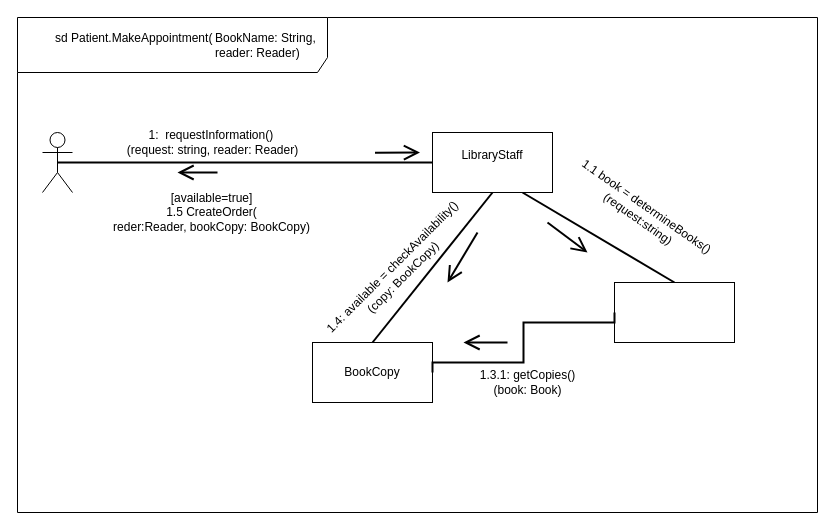
Image size: 835x530. Some labels were removed from this diagram. Here are the shapes that lost their labels. From the top down, the centre of each, then its label:
At point (57, 162): ":Reader".
At point (674, 312): "Book".
